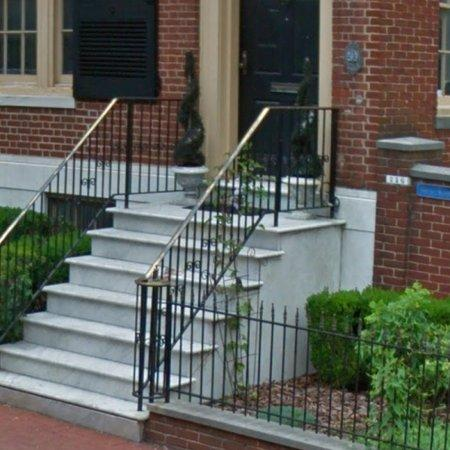stairs: (0, 108, 333, 441)
